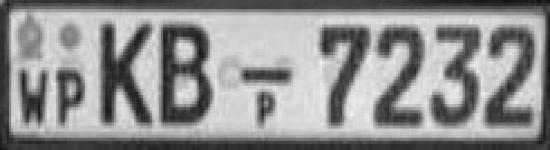-: (236, 59, 297, 94)
2: (482, 18, 540, 134), (371, 19, 430, 133)
3: (430, 16, 481, 128)
7: (314, 15, 374, 131)
B: (154, 16, 217, 131)
K: (92, 16, 156, 134)
P: (53, 62, 86, 130)
W: (16, 61, 53, 130)
